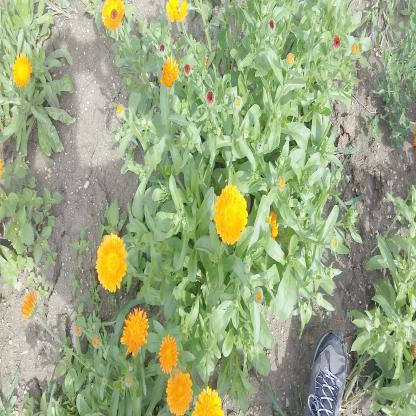marigold: (213, 184, 247, 245), (95, 232, 127, 293), (120, 307, 149, 356), (166, 364, 193, 416), (159, 333, 178, 375), (11, 52, 32, 88), (101, 0, 124, 31), (260, 205, 280, 240), (160, 56, 179, 86)
